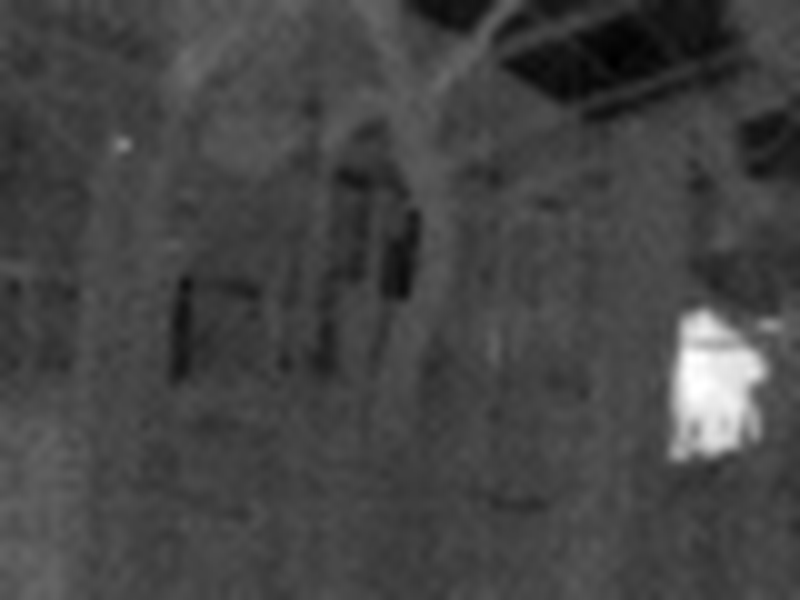elephant: (660, 286, 782, 470)
